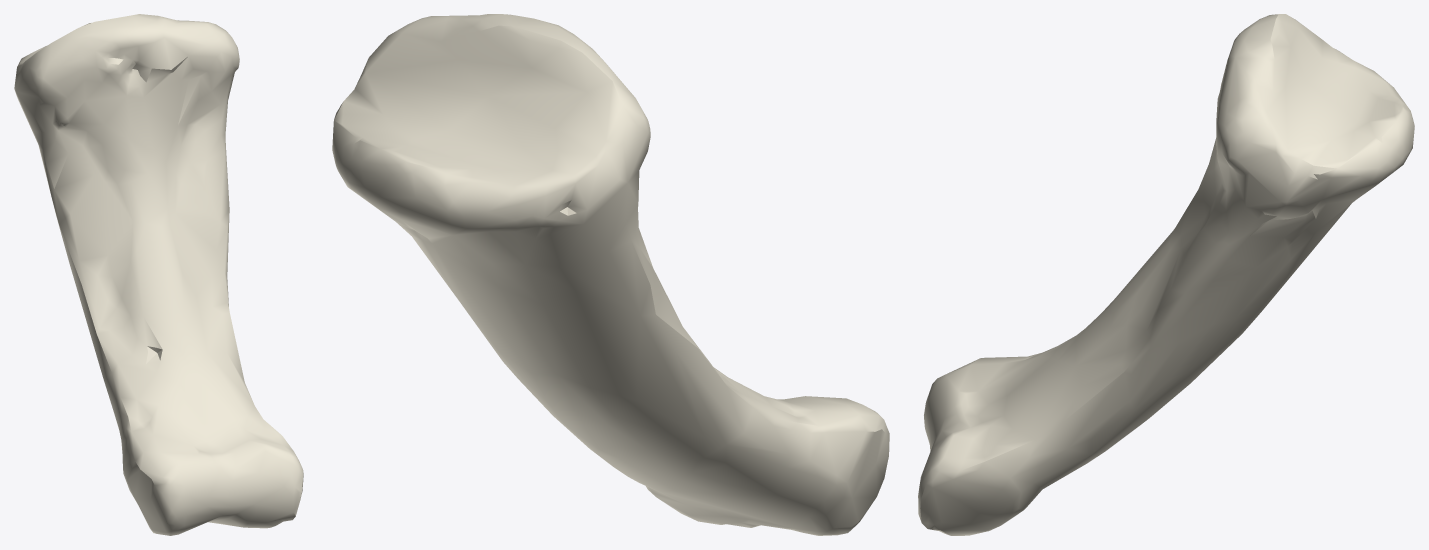
The model's file is fma24456.glb.
3 renders of one model, left to right at view 1: azimuth 30°, elevation 25°; view 2: azimuth 150°, elevation 25°; view 3: azimuth 270°, elevation 25°, orthographic. The views are drawn at different scales.
Visible parts, largest first — view 1: FMA24456; view 2: FMA24456; view 3: FMA24456.
Boxes of the visible parts, x1,y1,x2,y2 form: FMA24456: (14, 14, 303, 535); FMA24456: (332, 14, 889, 535); FMA24456: (918, 14, 1414, 535).
Bounding box in the file's own units: 0.0138 × 0.0255 × 0.0232.
